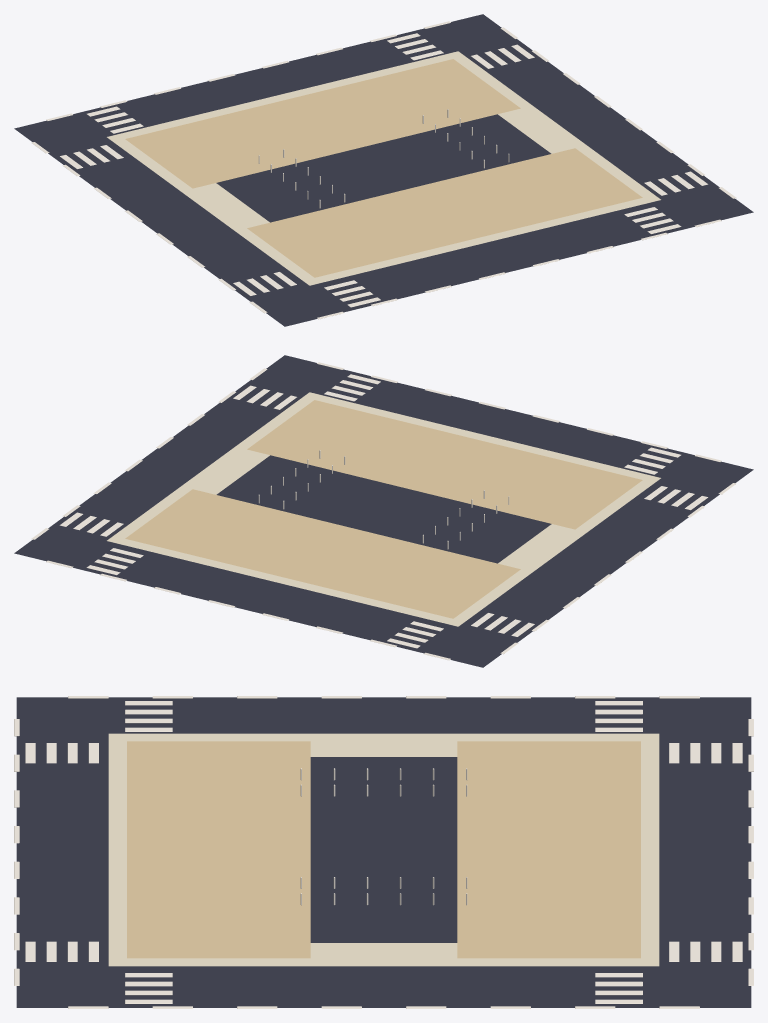
Rendered from tile_canal.glb.
3 renders of one model, top to bottom at view 1: azimuth 30°, elevation 25°; view 2: azimuth 150°, elevation 25°; view 3: azimuth 270°, elevation 25°, orthographic. The views are drawn at different scales.
Parts seen in each view (by area): view 1: tile_canal; view 2: tile_canal; view 3: tile_canal.
Part boxes in pixels (x1,y1,x2,y2): tile_canal: [14, 14, 753, 326]; tile_canal: [14, 355, 753, 667]; tile_canal: [14, 696, 753, 1008].
Size of the model in its own units: 40.3 by 2.4 by 40.3.
Materials: 1 (1 with a texture image).
